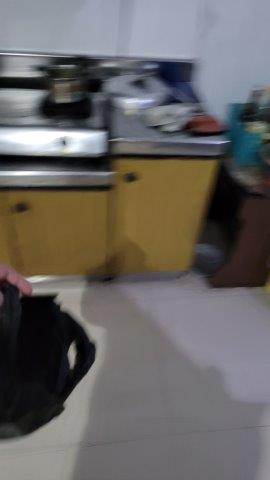plastik: (1, 283, 97, 444)
